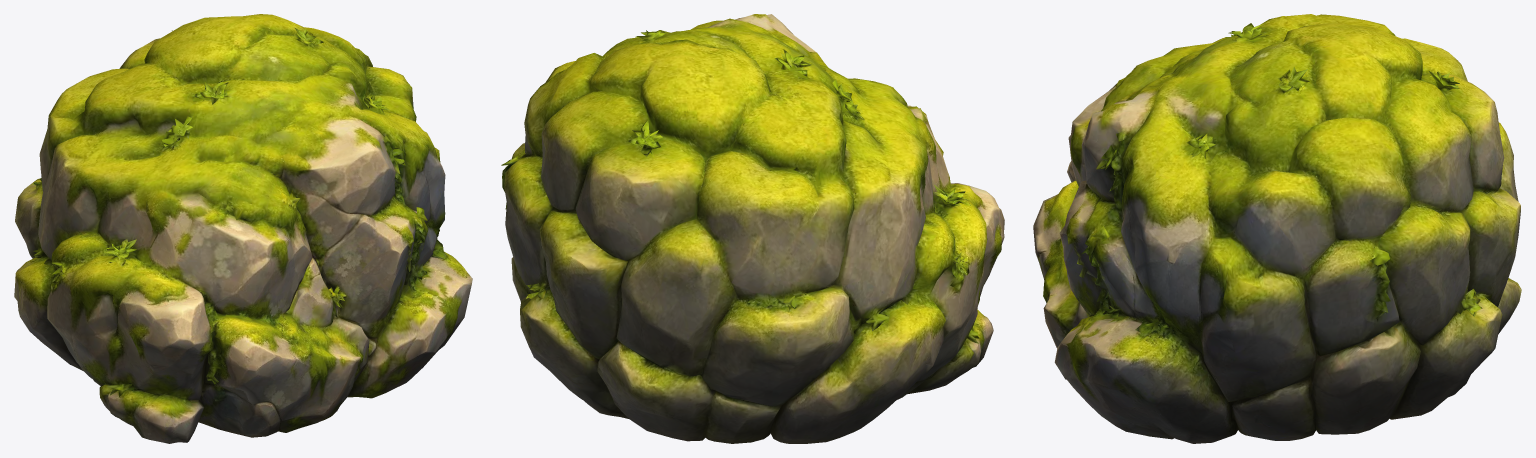
Rendered from mossy rock boulder 3d model.glb.
The picture shows the model from 3 angles, left to right: view 1: azimuth 30°, elevation 25°; view 2: azimuth 150°, elevation 25°; view 3: azimuth 270°, elevation 25°; orthographic projection. The views are drawn at different scales.
Parts seen in each view (by area): view 1: tripo_node_50770270-3e65-4d06-b0aa-42a55e3b08c9; view 2: tripo_node_50770270-3e65-4d06-b0aa-42a55e3b08c9; view 3: tripo_node_50770270-3e65-4d06-b0aa-42a55e3b08c9.
Part boxes in pixels (bbox=[...]): tripo_node_50770270-3e65-4d06-b0aa-42a55e3b08c9: bbox=[14, 14, 472, 443]; tripo_node_50770270-3e65-4d06-b0aa-42a55e3b08c9: bbox=[501, 14, 1004, 443]; tripo_node_50770270-3e65-4d06-b0aa-42a55e3b08c9: bbox=[1033, 14, 1521, 443].
Bounding box in the file's own units: 1 × 0.7744 × 0.9651.
Materials: 1 (1 with a texture image).
